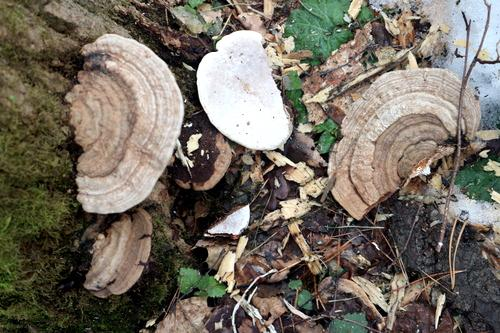Ganoderma - Fruit Body: (323, 67, 481, 218), (69, 33, 186, 216), (197, 30, 291, 149), (83, 217, 153, 302)
